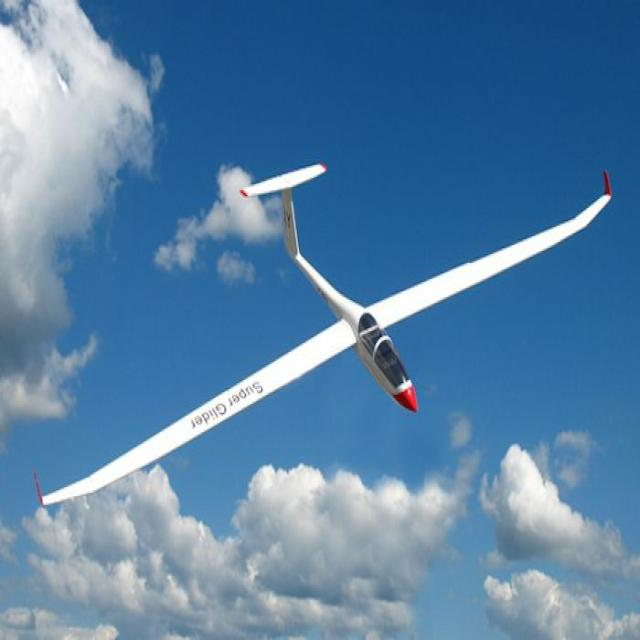iha: (31, 162, 614, 508)
